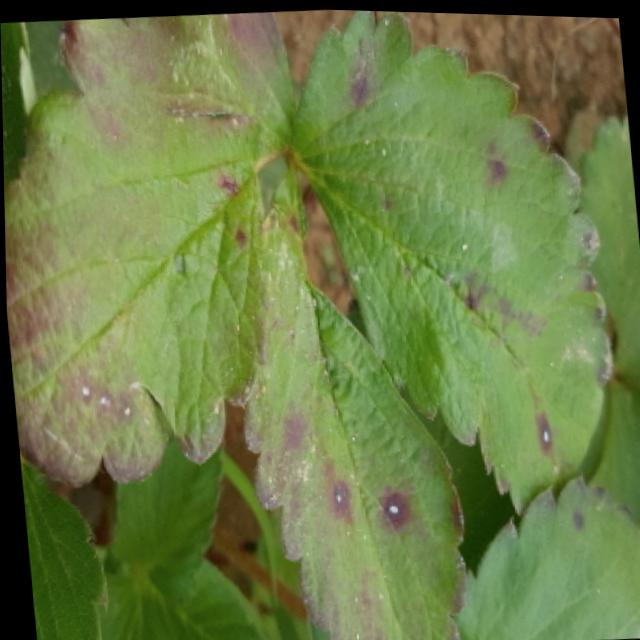Leaf Spot: (292, 8, 613, 515), (3, 9, 295, 496), (241, 166, 465, 640), (454, 470, 640, 640), (0, 21, 37, 187)
